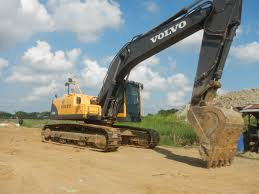excavator: (40, 1, 244, 169)
